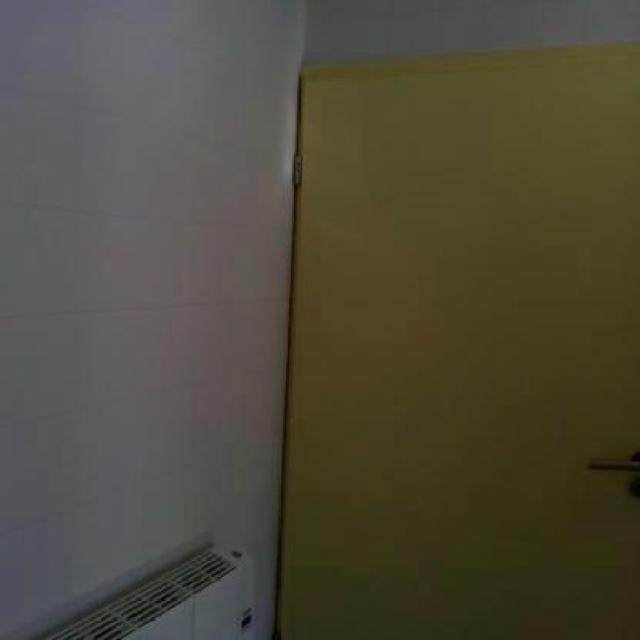door: (272, 37, 638, 638)
